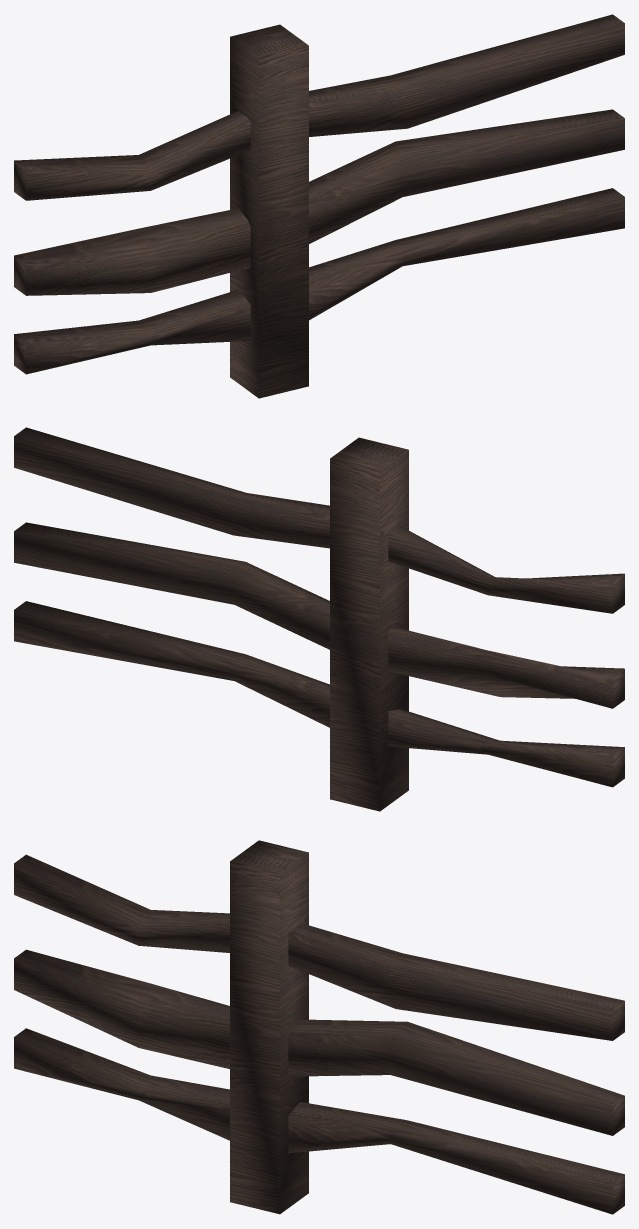
3 views of the same model, one above another, from view 1: azimuth 30°, elevation 25°; view 2: azimuth 150°, elevation 25°; view 3: azimuth 330°, elevation 25° (orthographic).
Visible parts, largest first — view 1: Cube171_Wood_02003_0; view 2: Cube171_Wood_02003_0; view 3: Cube171_Wood_02003_0.
Part boxes in pixels (bbox=[...]): Cube171_Wood_02003_0: bbox=[14, 14, 624, 398]; Cube171_Wood_02003_0: bbox=[14, 427, 624, 811]; Cube171_Wood_02003_0: bbox=[14, 840, 624, 1214].
Size of the model in its own units: 2.39 by 1.3 by 0.2.
1 material, 1 textured.
